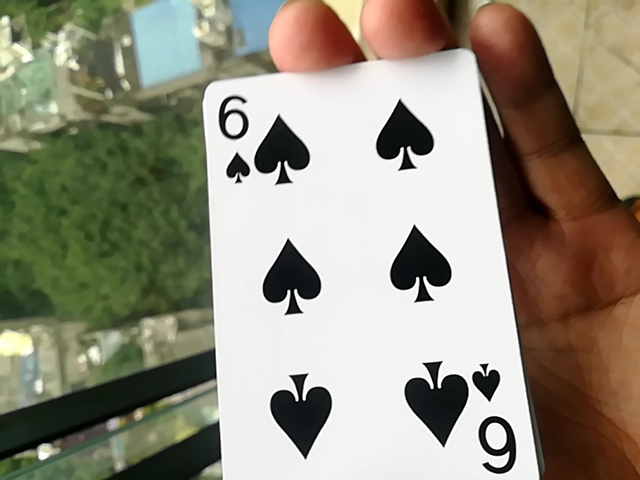ht 6: (188, 43, 541, 475)
